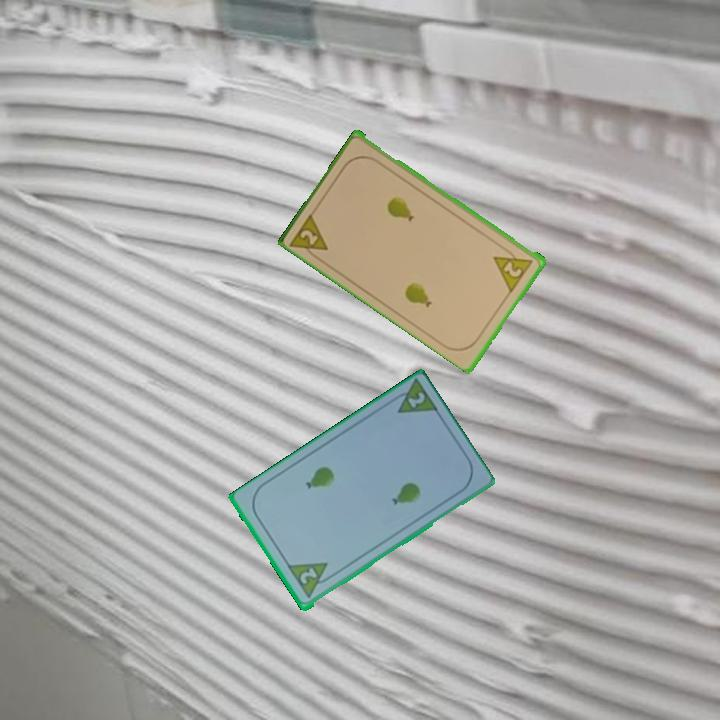2p: (287, 208, 332, 264), (490, 243, 536, 294), (385, 377, 441, 417), (285, 559, 337, 602)
